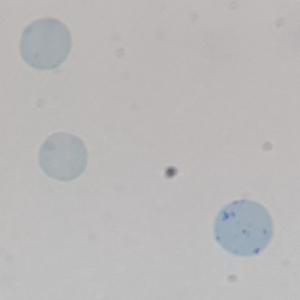aggregate reticulocyte: (211, 196, 275, 259)
erythrocyte: (36, 130, 90, 183)
punctate reticulocyte: (17, 17, 73, 71)
